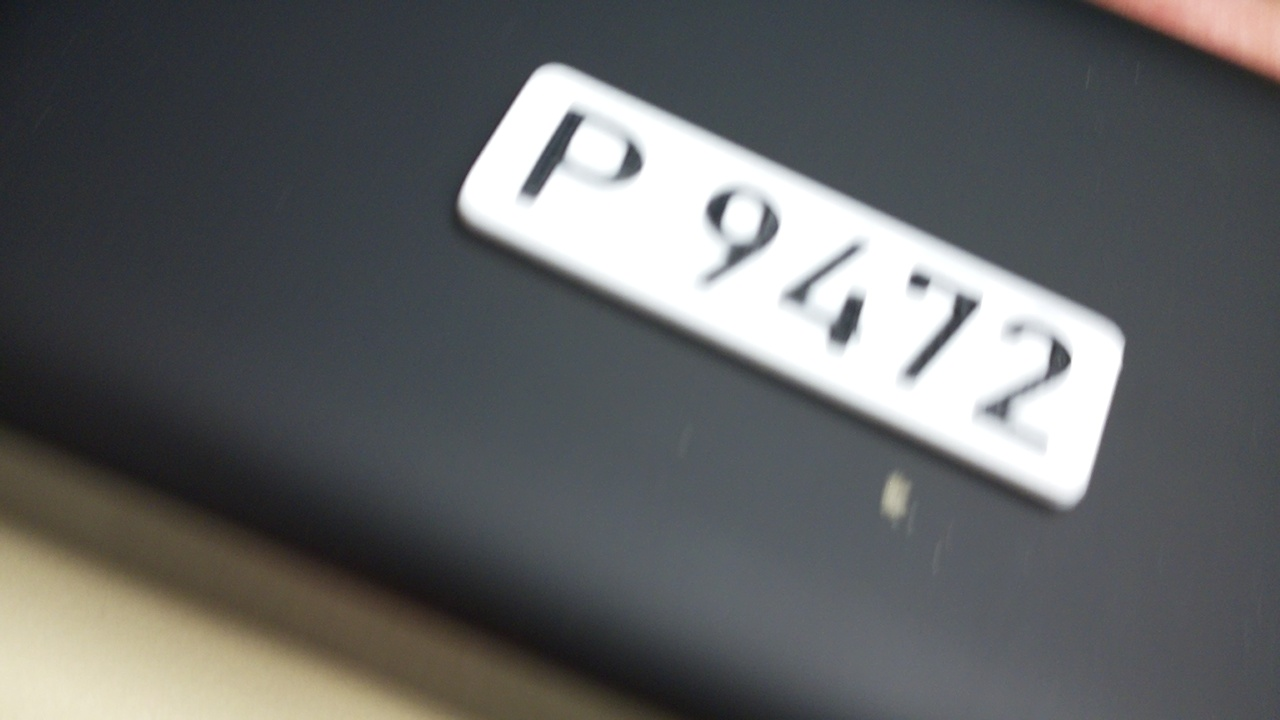license_plate: (447, 55, 1129, 517)
